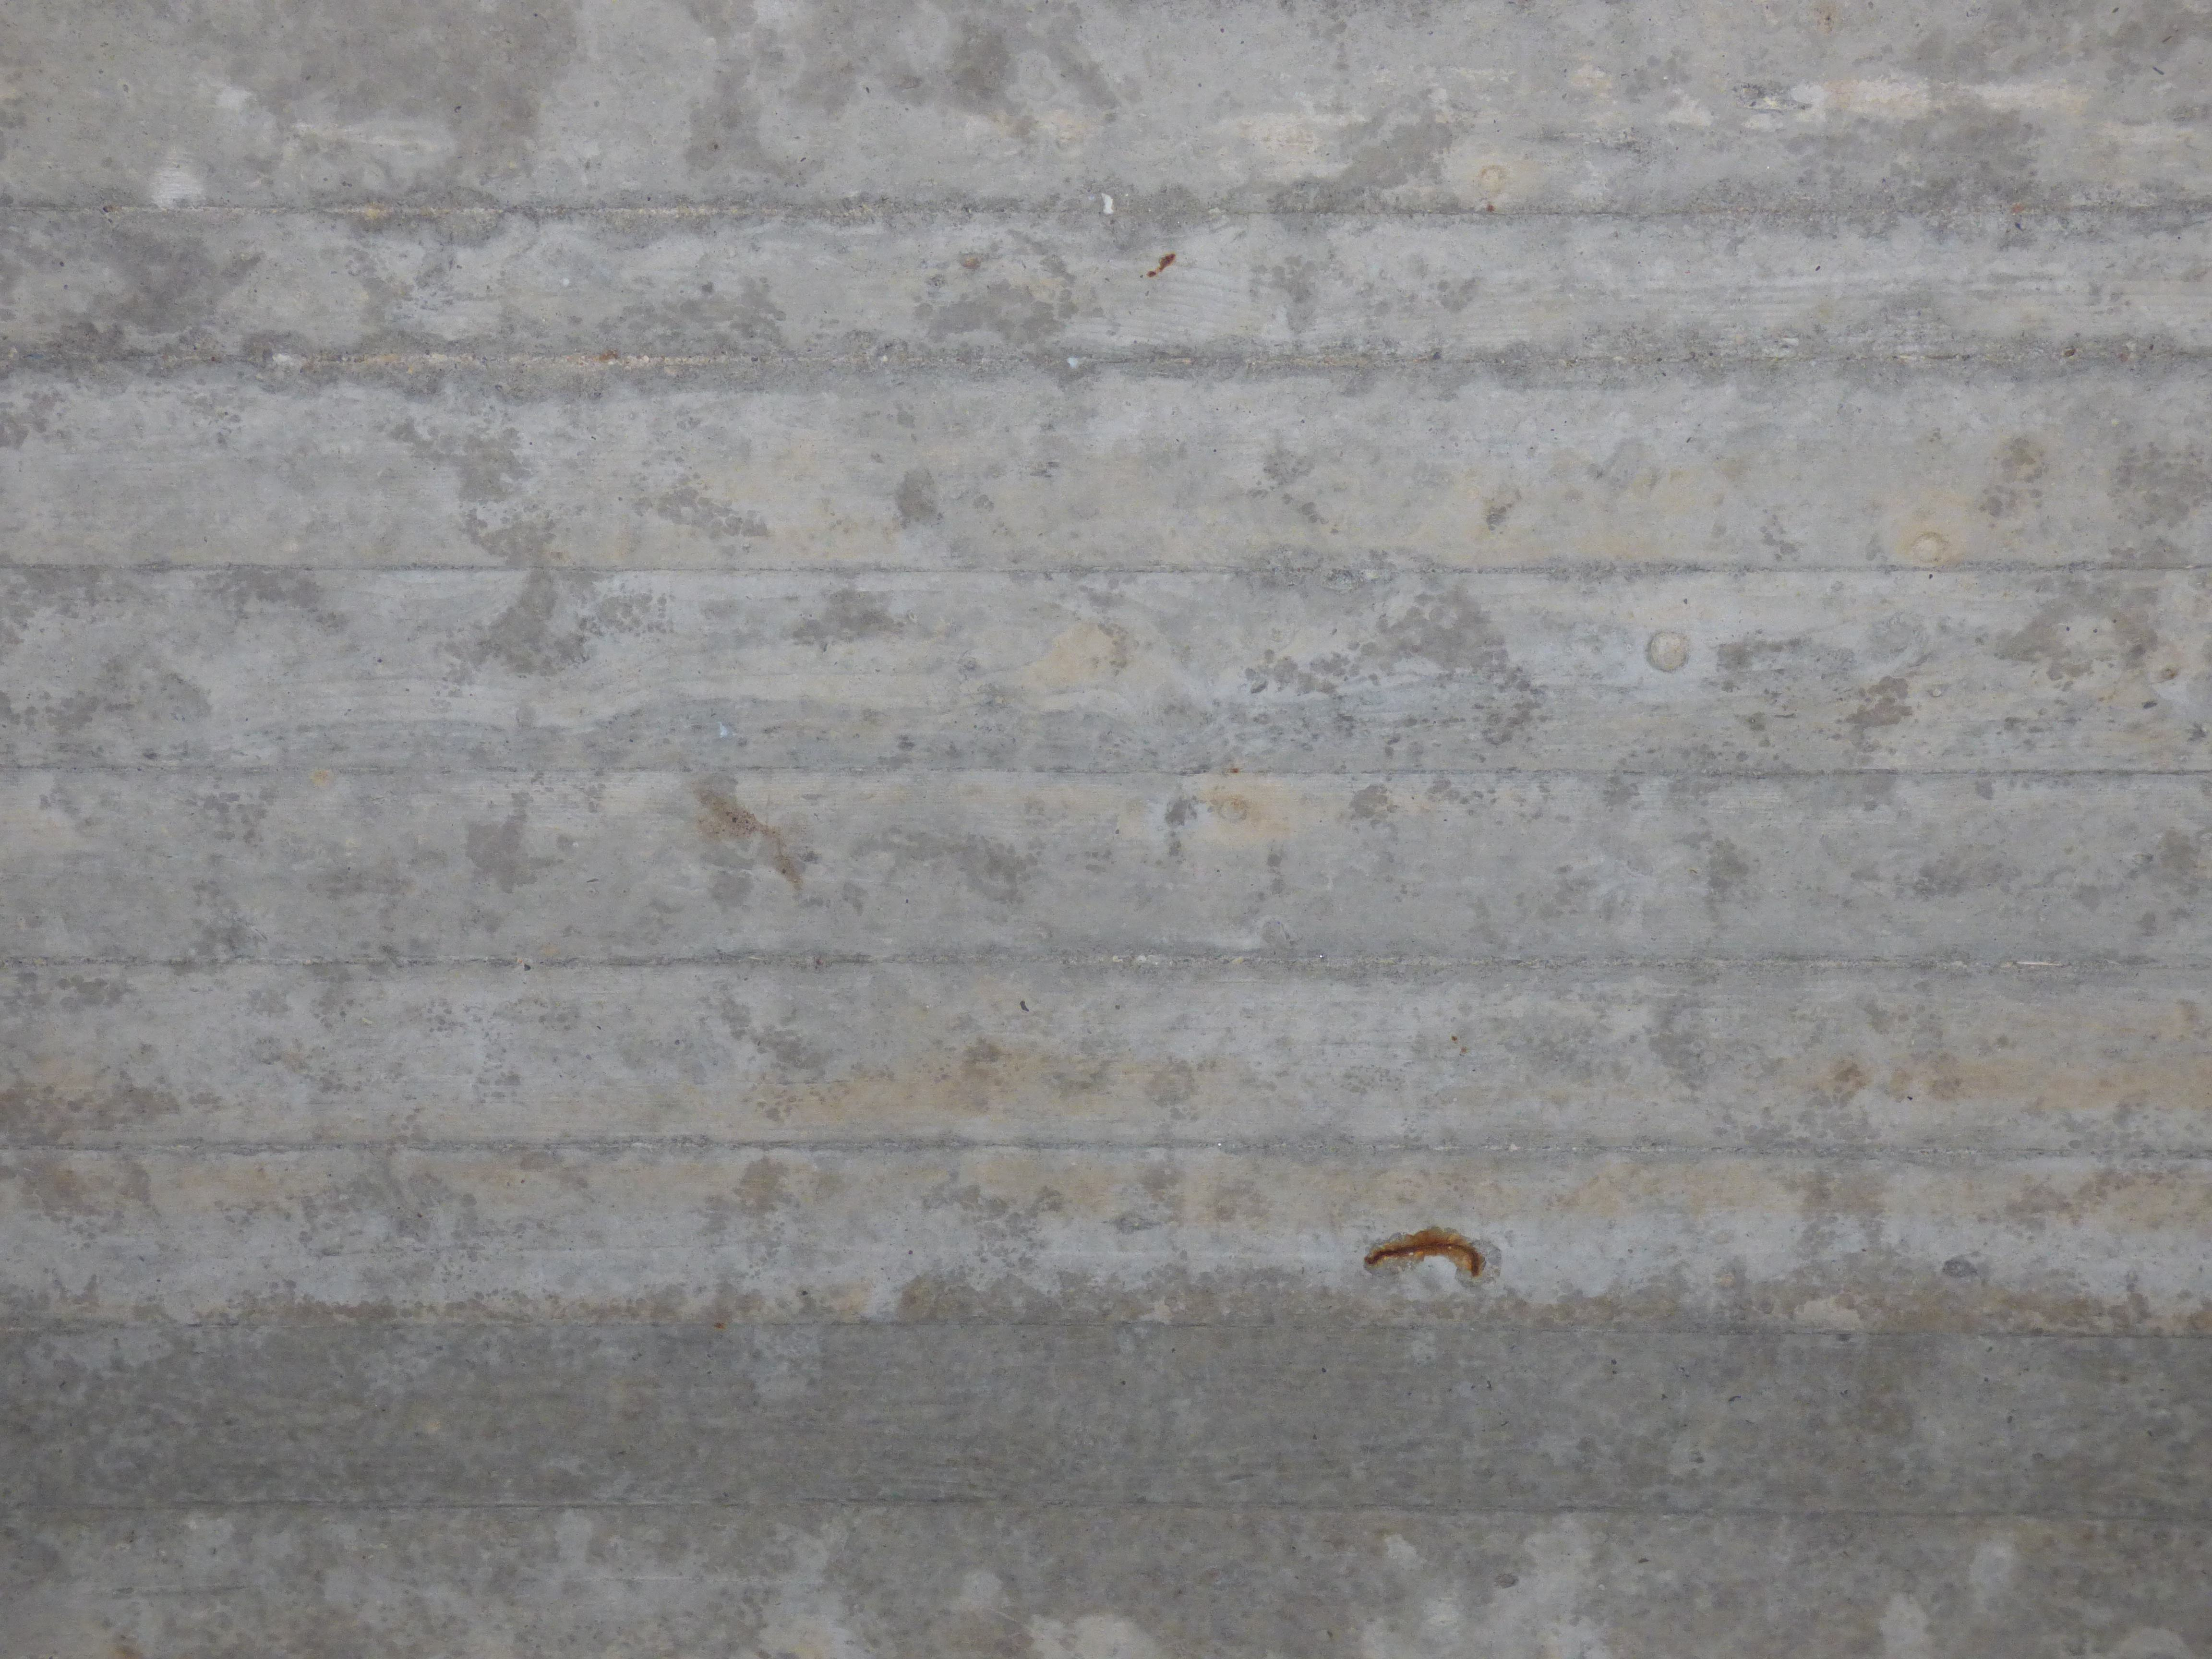Exposed reinforcement: (1364, 1243, 1479, 1277)
Spalling: (1362, 1225, 1503, 1288)
